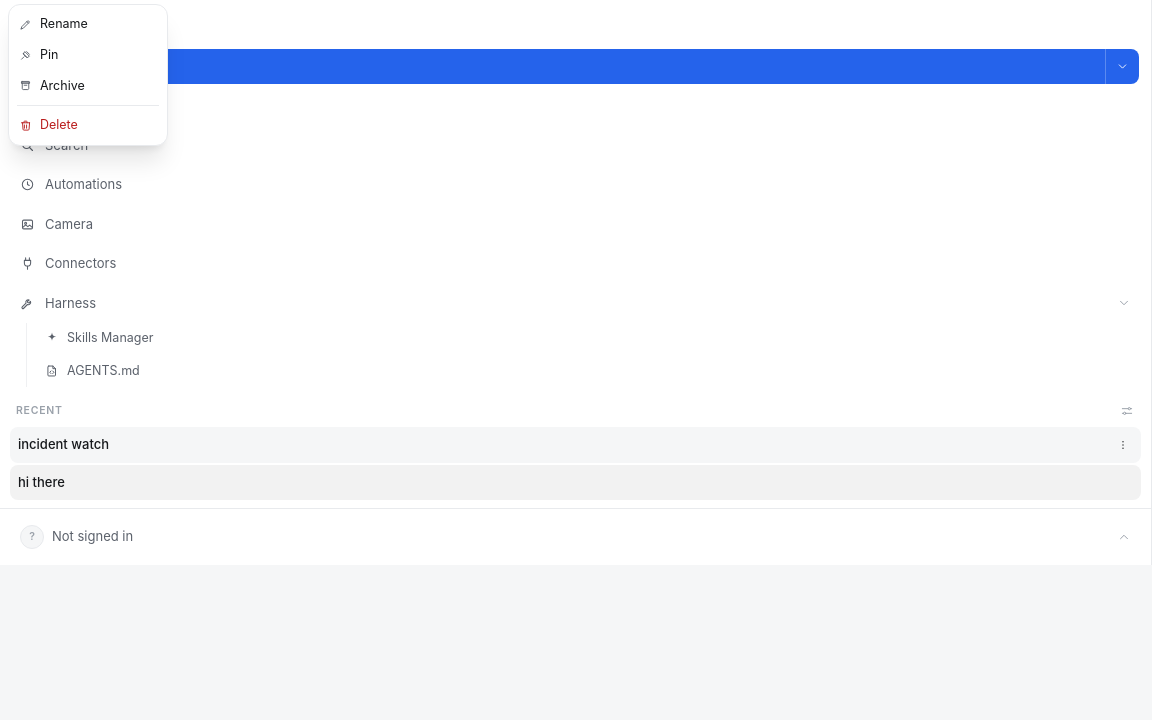
Chronological list row actions (⋮ menu) › rename / pin / archive / two-step delete all live behind the row's single kebab
Earlier steps of the test are not shown.
Later steps or results of the test are not shown.
Click the menu item with test id "row-menu-delete".
click(88, 126)  # box [9,110,167,141]
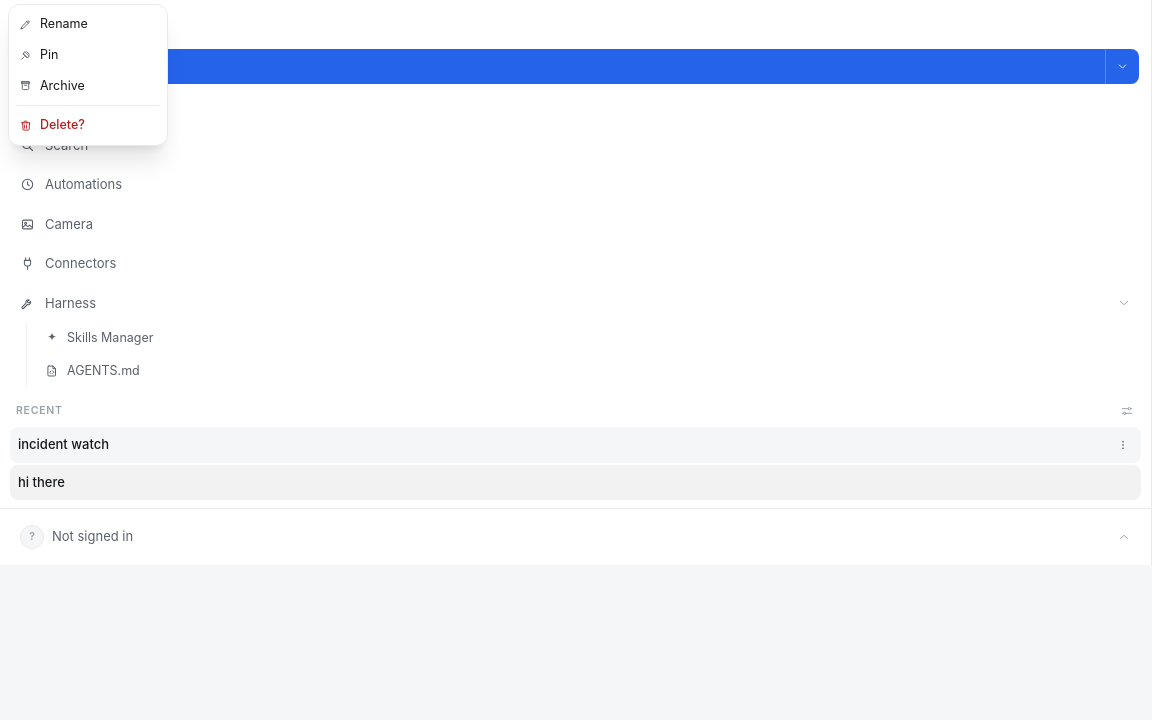
Now the menu item with test id "row-menu-delete" reads "Delete?", box [9,110,167,141]
